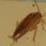cockroach: (12, 10, 42, 42)
